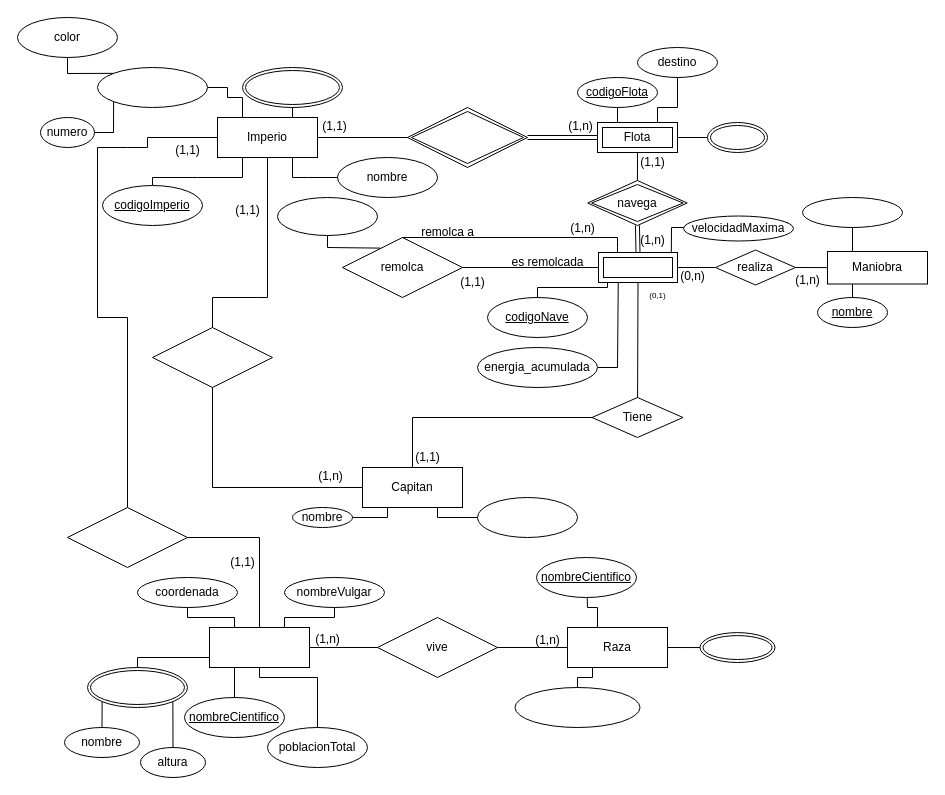
This 945x795 diagram has some shape labels left out. Here are the shapes that lost their labels. From the top down, the centre of each, then its label:
At pixel 152 87: "nivelTecnologico".
At pixel 292 87: "armamento".
At pixel 467 137: "pertenece".
At pixel 737 137: "mision".
At pixel 327 216: "fechaRemolque".
At pixel 852 212: "consumoEnergia".
At pixel 638 267: "Nave".
At pixel 212 357: "trabaja".
At pixel 127 537: "ocupa".
At pixel 527 517: "idCapitan".
At pixel 259 647: "Planeta".
At pixel 737 647: "habilidad".
At pixel 137 687: "montaña".
At pixel 577 707: "porcentajePoblacion".
